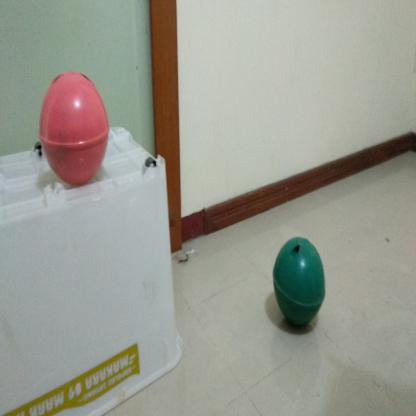green_buoy: (271, 233, 328, 329)
red_buoy: (38, 70, 110, 188)
